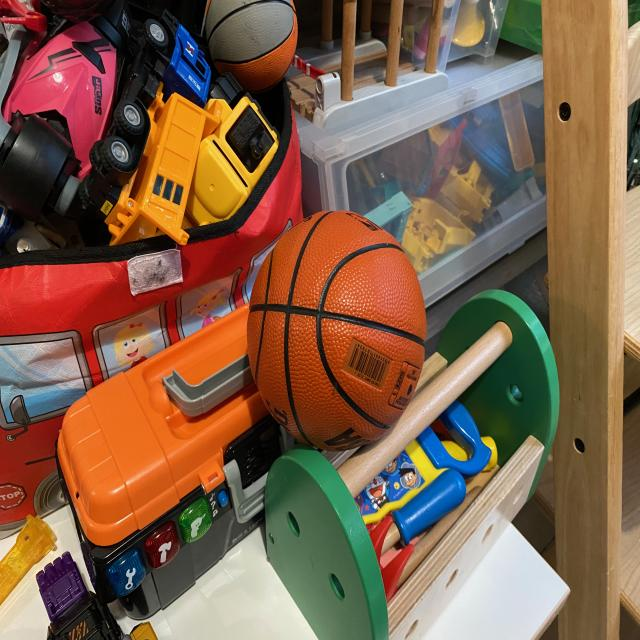Ball: (232, 192, 441, 466)
